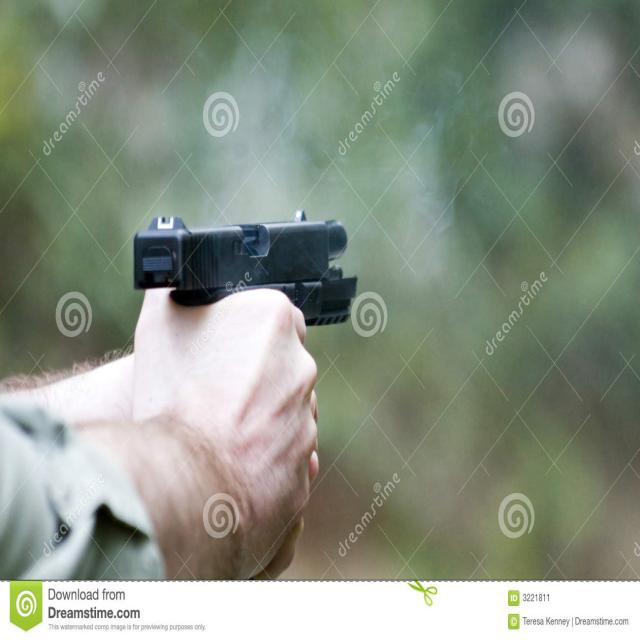handgun: (140, 210, 361, 330)
